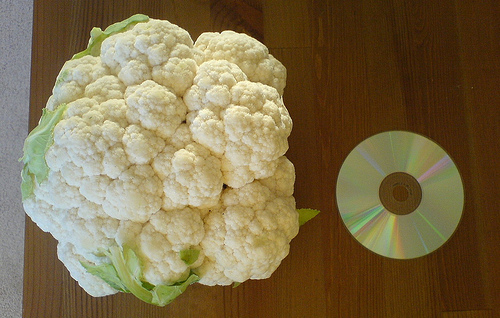cauliflower: (19, 16, 321, 305)
